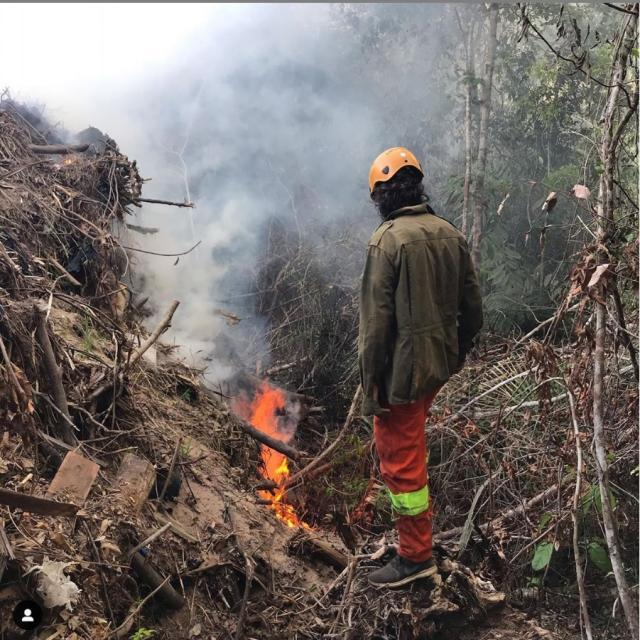Fire: (243, 382, 304, 528)
